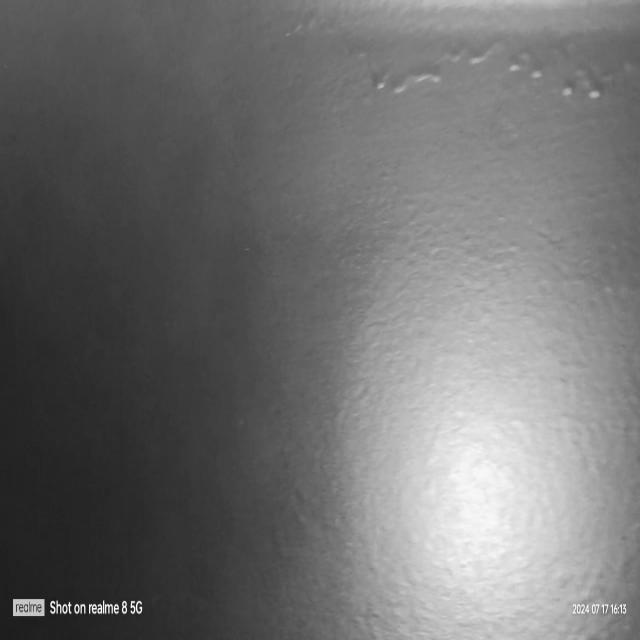paint drips: (288, 12, 640, 120)
